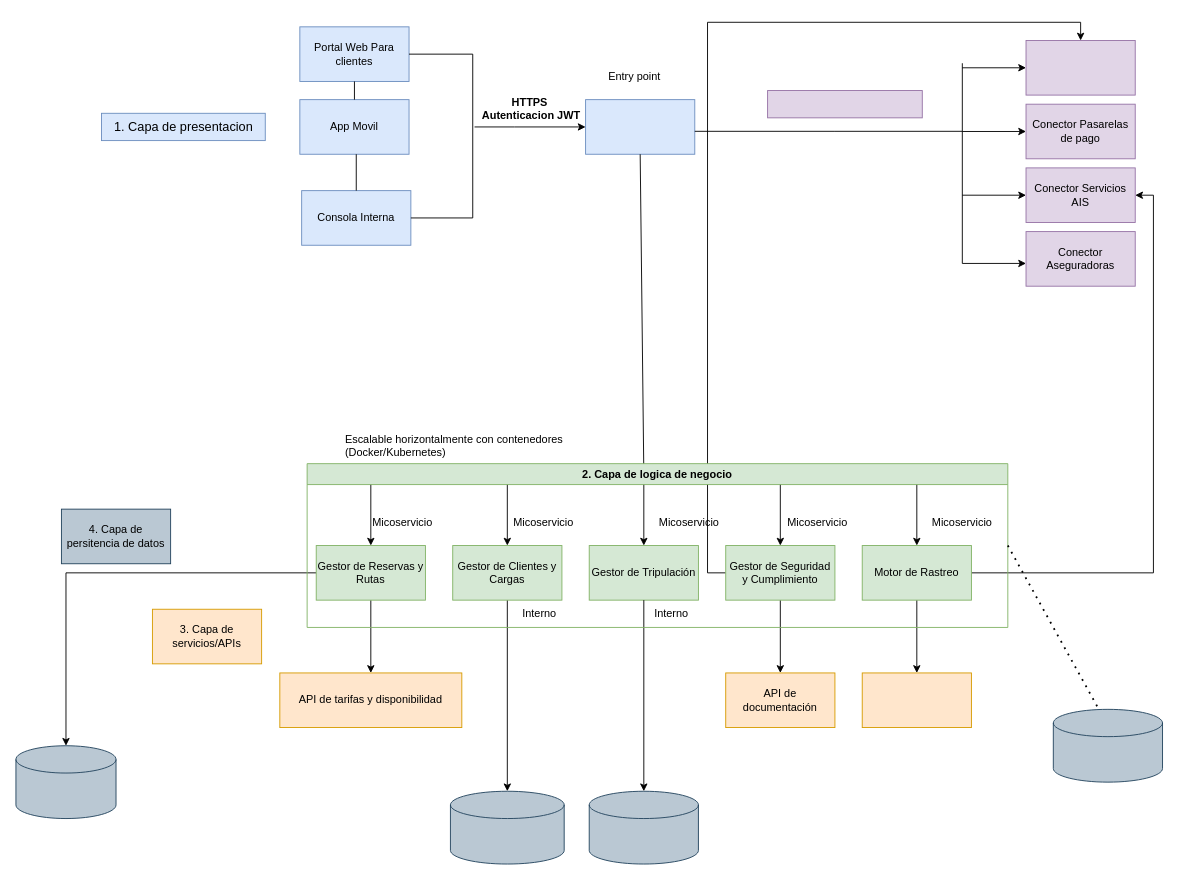
Some shapes in this 1178 by 880 pixel diagram are drawn without their labels. Each missing label, with the centre of its shape:
"5. Capa de integracion con terceros" belongs at (x=844, y=104).
"API de rastreo" belongs at (x=916, y=700).
"API Gateway" belongs at (x=640, y=126).
"Base de Datos de Clientes y Cargas" belongs at (x=507, y=827).
"Base de Datos de Reservas y Rutas" belongs at (x=65, y=782).
"Base de Datos de Tripulación" belongs at (x=643, y=827).
"Conector Puertos y aduanas" belongs at (x=1080, y=67).
"Data Warehouse / Data Lake" belongs at (x=1107, y=745).
